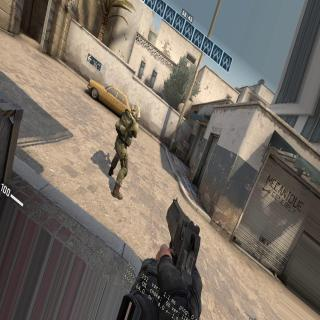CT-Body: (108, 103, 141, 201)
CT-Head: (130, 104, 142, 122)
